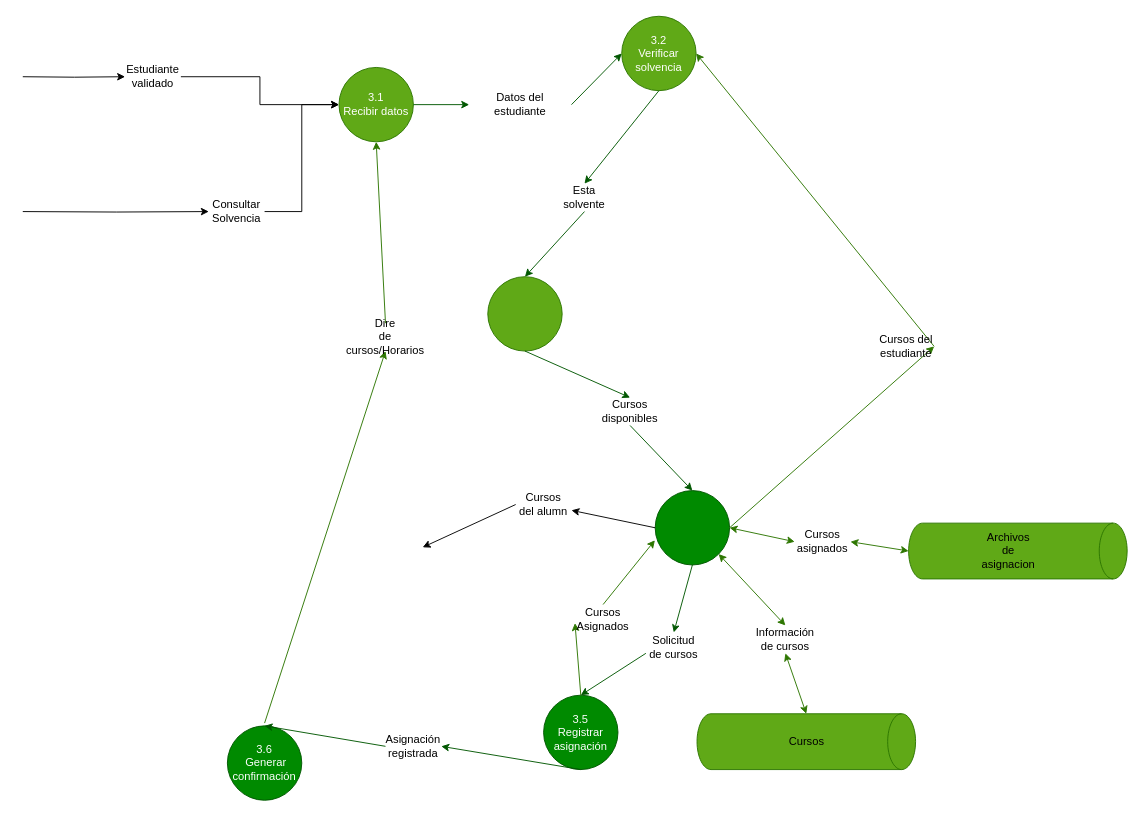
Some shapes in this 1144 by 817 pixel diagram are drawn without their labels. The box of each missing label's shape, as (x1, y1, x2, y2) in pixels:
3.3 Consultar cursos: (487, 276, 562, 351)
3.4 Asignar cursos: (654, 490, 730, 565)
